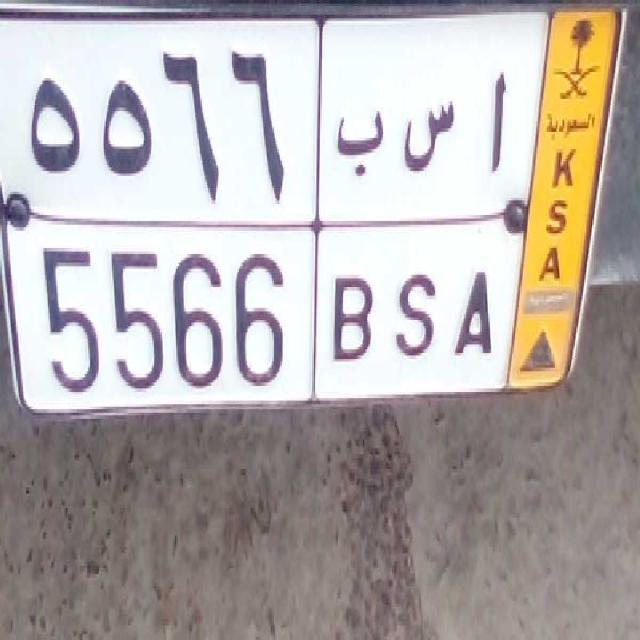license_plate: (15, 216, 516, 401)
